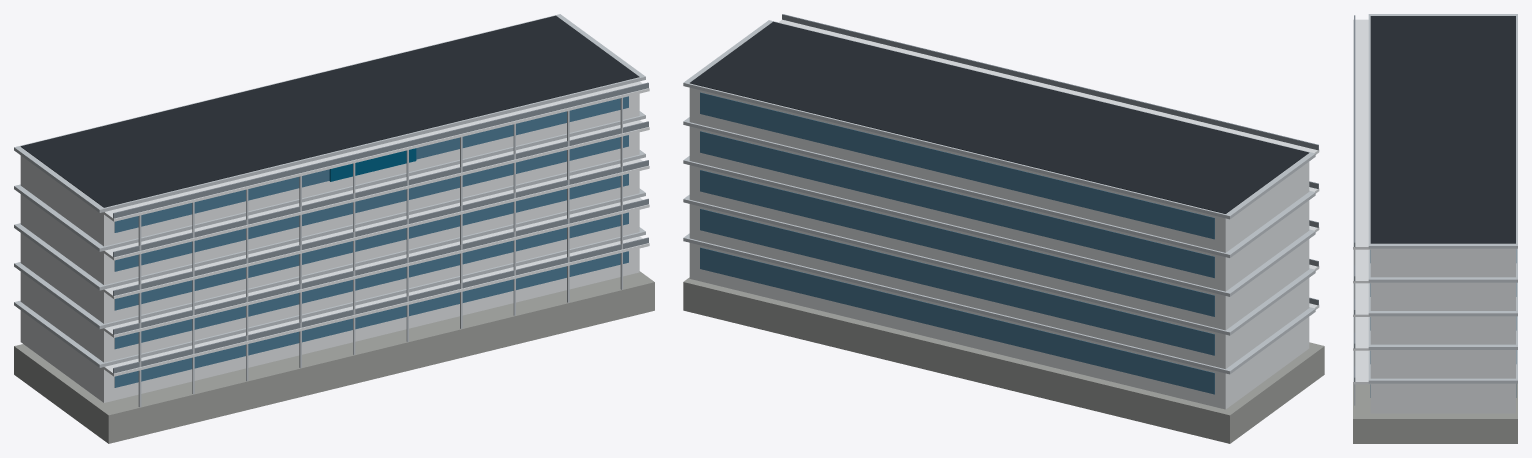
The model's file is residential-trackside.glb.
The picture shows the model from 3 angles, left to right: view 1: azimuth 30°, elevation 25°; view 2: azimuth 150°, elevation 25°; view 3: azimuth 270°, elevation 25°; orthographic projection. The views are drawn at different scales.
Parts seen in each view (by area): view 1: residential-trackside; view 2: residential-trackside; view 3: residential-trackside.
Part boxes in pixels (x1=…): residential-trackside: x1=14, y1=14, x2=654, y2=443; residential-trackside: x1=683, y1=14, x2=1324, y2=443; residential-trackside: x1=1353, y1=14, x2=1517, y2=443.
Bounding box in the file's own units: 60 × 24 × 18.
